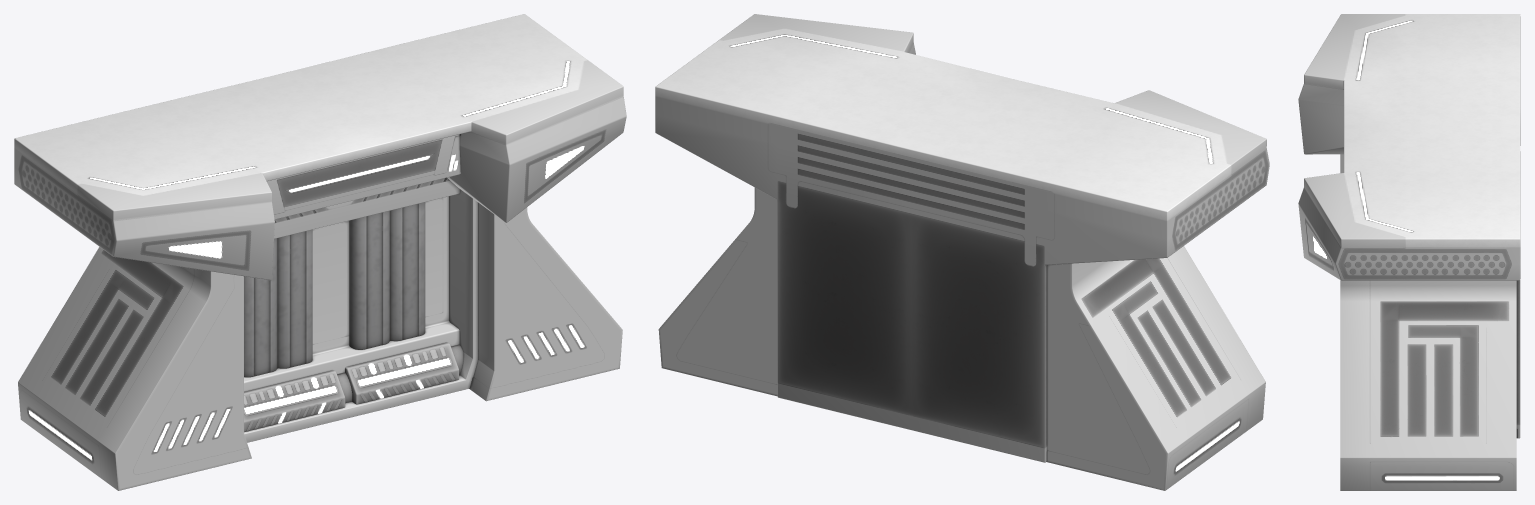
The model's file is Table02.FBX.
The picture shows the model from 3 angles, left to right: view 1: azimuth 30°, elevation 25°; view 2: azimuth 150°, elevation 25°; view 3: azimuth 270°, elevation 25°; orthographic projection. The views are drawn at different scales.
Parts seen in each view (by area): view 1: Table02; view 2: Table02; view 3: Table02.
Boxes of the visible parts, bbox=[...] form: Table02: bbox=[14, 14, 626, 490]; Table02: bbox=[655, 14, 1269, 490]; Table02: bbox=[1298, 14, 1520, 490].
Size of what is drawn, in the model's own units: 1.71 by 0.9002 by 0.713.
